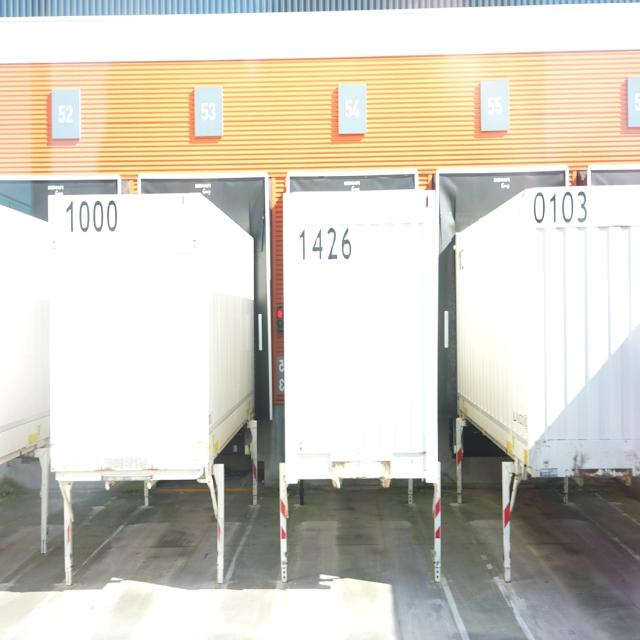Code: (294, 218, 359, 272), (531, 186, 596, 232), (64, 192, 118, 241)
